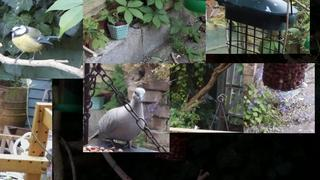blue tit: (9, 24, 59, 65)
collared dove: (88, 87, 146, 149)
